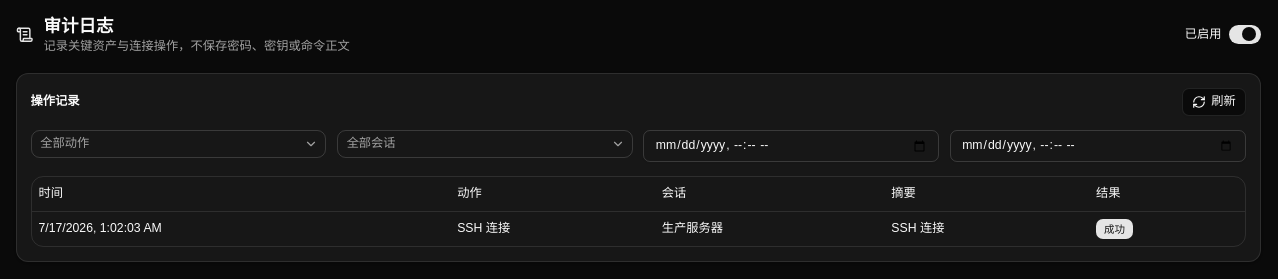
it: AuditPanel › shows audit toggle failures inline without toast
This screenshot has width=1278, height=279.
Click the switch named "启用审计日志" at {"x": 1244, "y": 34}, box [1228,25,1260,44]
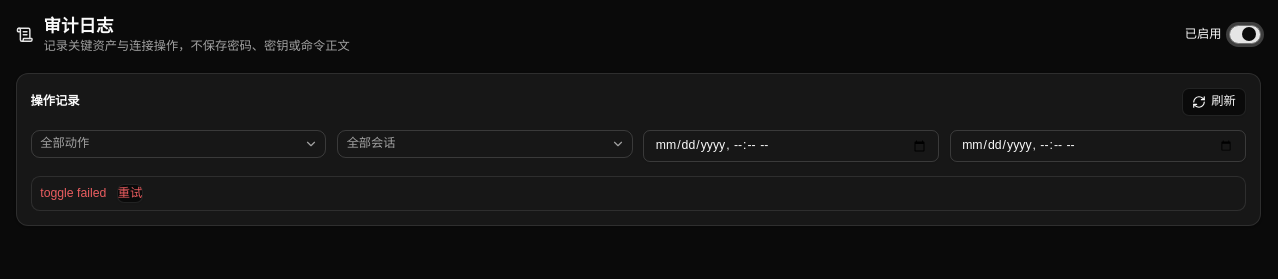
Now the text "toggle failed" is shown, box [40,186,106,200]
